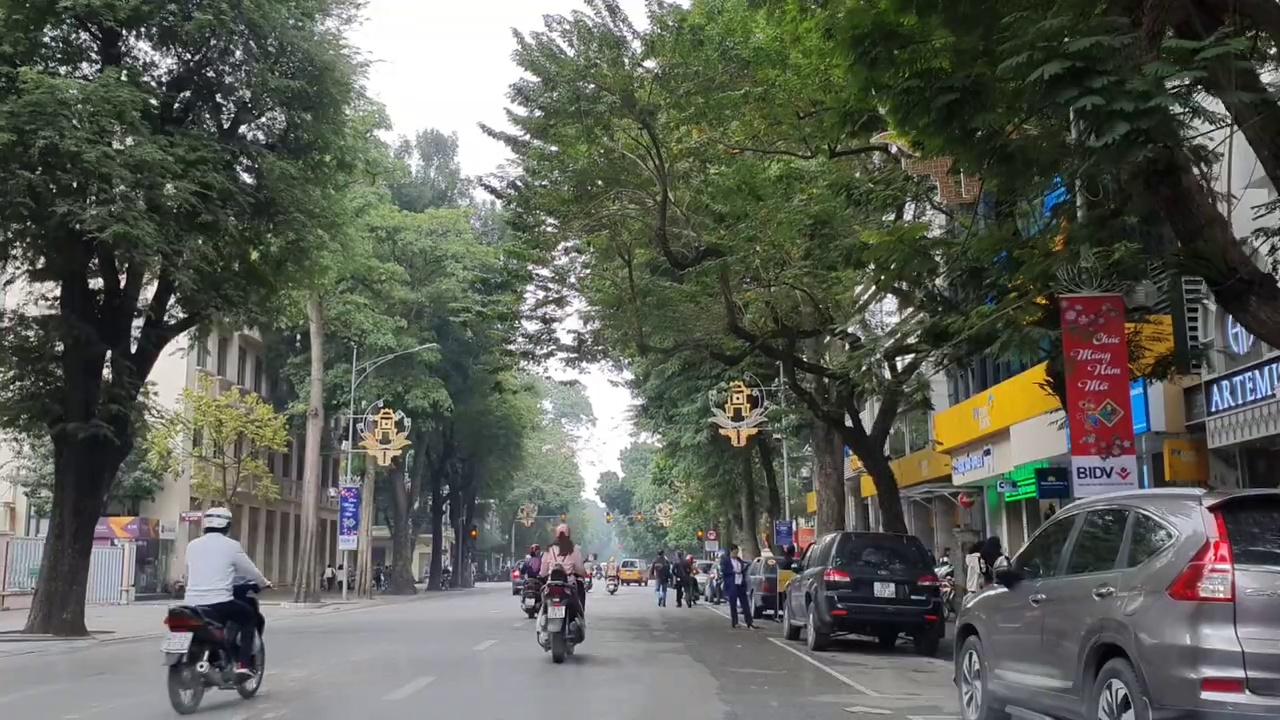person: (872, 578, 898, 600), (163, 630, 190, 650), (547, 604, 566, 619), (523, 596, 535, 606)
